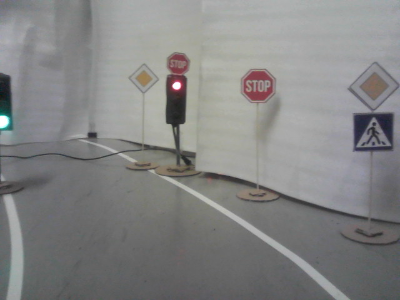crosswalk: (354, 113, 393, 151)
priority_road: (350, 63, 397, 109), (129, 65, 159, 93)
stop: (242, 69, 274, 101), (167, 52, 189, 76)
trafficlight_red: (166, 78, 184, 122)
